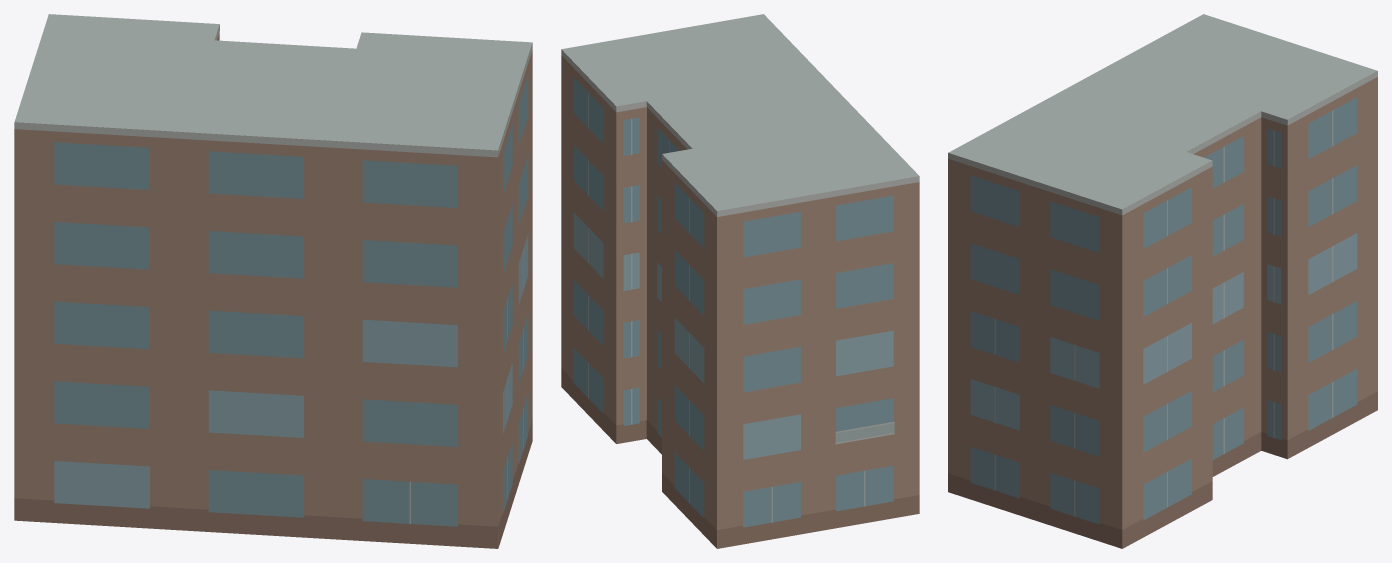
Rendered from survey-upis-32657195.glb.
The picture shows the model from 3 angles, left to right: view 1: azimuth 30°, elevation 25°; view 2: azimuth 150°, elevation 25°; view 3: azimuth 270°, elevation 25°; orthographic projection. The views are drawn at different scales.
Parts seen in each view (by area): view 1: survey-upis-32657195.tmp; view 2: survey-upis-32657195.tmp; view 3: survey-upis-32657195.tmp.
Boxes of the visible parts, x1,y1,x2,y2 form: survey-upis-32657195.tmp: (14,14,532,548); survey-upis-32657195.tmp: (561,14,919,548); survey-upis-32657195.tmp: (948,14,1377,548).
Size of the model in its own units: 17.44 by 14.1 by 16.19.
